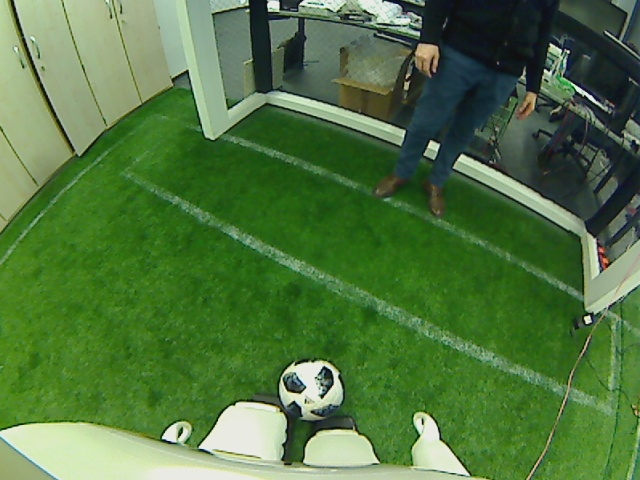ball: (276, 357, 346, 420)
